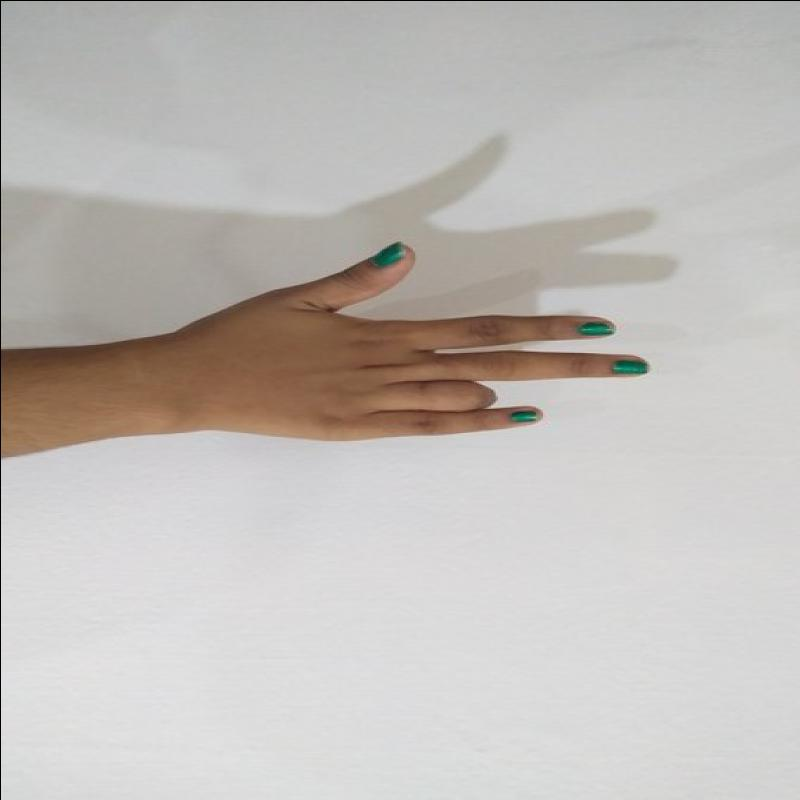Pathaaka: (156, 240, 662, 456)
